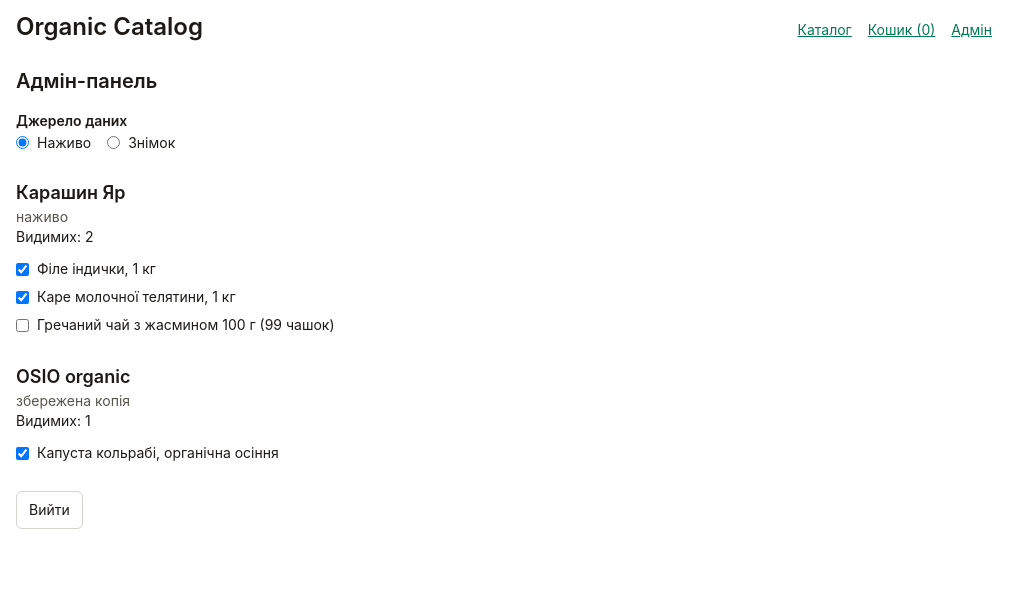
it: Data source switch › Reload failure after a successful save
This screenshot has width=1009, height=606.
Step 1. Click the radio button labelled "Знімок" → (114, 142), box 107,136 -> 120,149
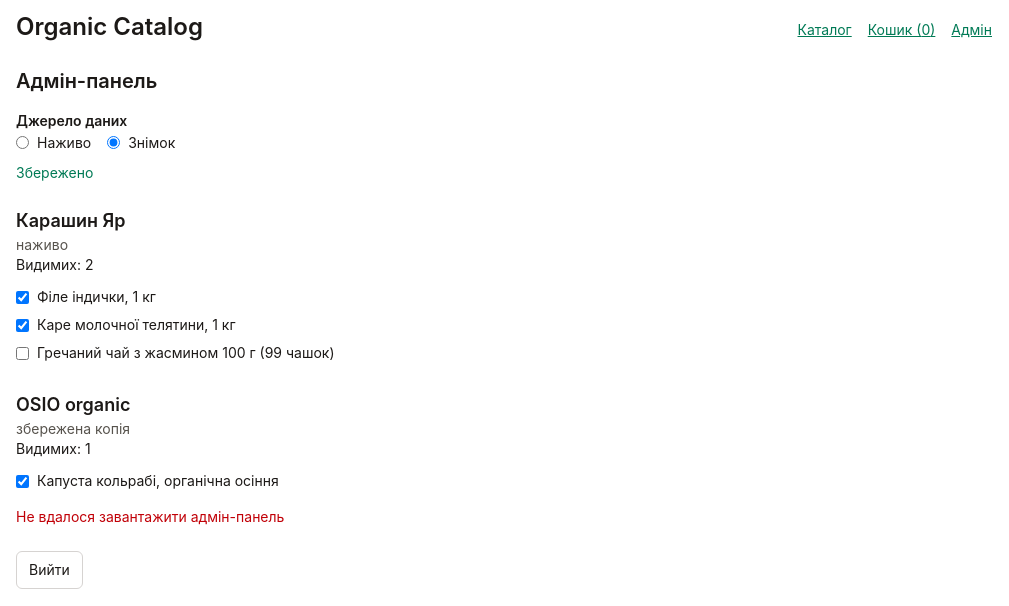
Now the radio button labelled "Знімок" is checked, box 107,136 -> 120,149
Now the message "Не вдалося завантажити адмін-панель" is shown, box 16,508 -> 284,525
Now the message "Збережено" is shown, box 16,164 -> 93,181
